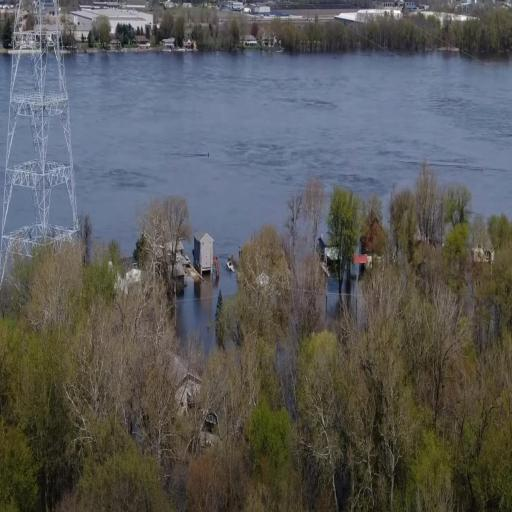flood: (64, 49, 512, 351), (0, 53, 11, 241), (5, 185, 34, 231), (8, 114, 34, 165), (46, 114, 67, 161), (49, 184, 72, 226), (325, 275, 341, 319), (14, 54, 32, 91), (344, 276, 362, 312), (46, 52, 57, 89)
house: (192, 226, 216, 280), (318, 228, 341, 268)
